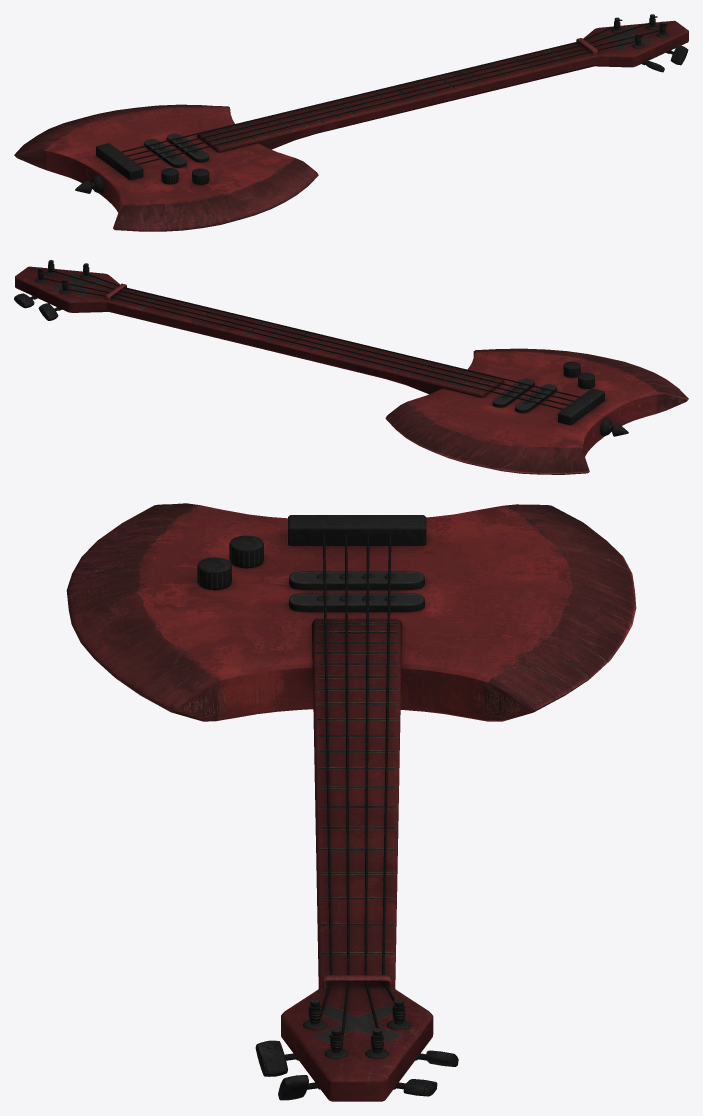
File: marcelines_ax_bass.glb
3 views of the same model, one above another, from view 1: azimuth 30°, elevation 25°; view 2: azimuth 150°, elevation 25°; view 3: azimuth 270°, elevation 25° (orthographic). The views are drawn at different scales.
Visible parts, largest first — view 1: Object_2, Object_3; view 2: Object_2, Object_3; view 3: Object_2, Object_3.
Boxes of the visible parts, x1,y1,x2,y2 form: Object_2: (14, 14, 688, 231); Object_3: (15, 16, 688, 212); Object_2: (15, 260, 688, 474); Object_3: (14, 261, 687, 456); Object_2: (66, 503, 636, 1101); Object_3: (174, 528, 530, 1099).
Bounding box in the file's own units: 294 × 17.67 × 117.
Materials: 1 (1 with a texture image).
